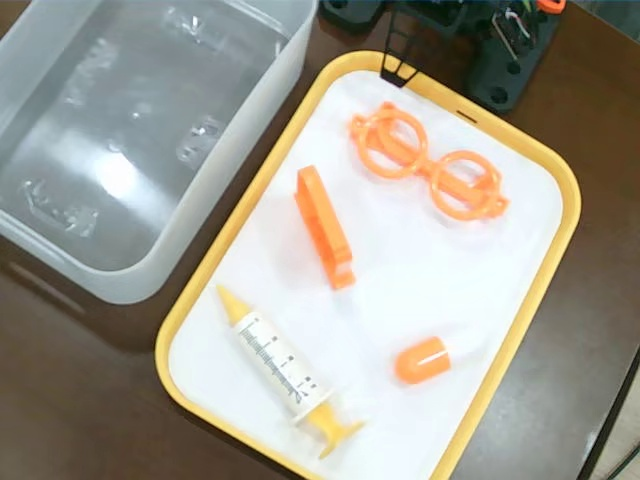pill: (393, 321, 490, 384)
syringe: (216, 282, 371, 461)
